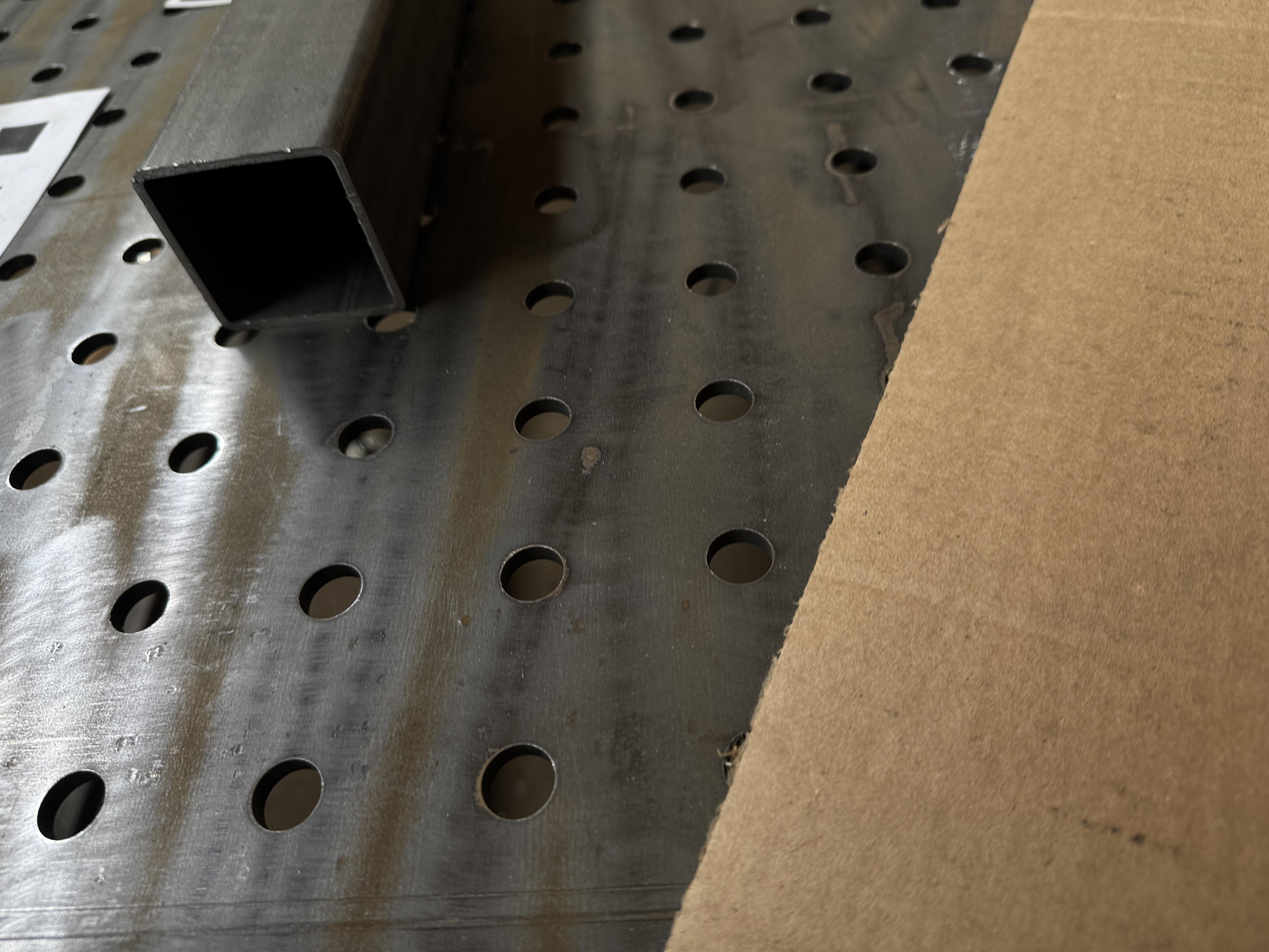detail: (132, 0, 476, 332)
